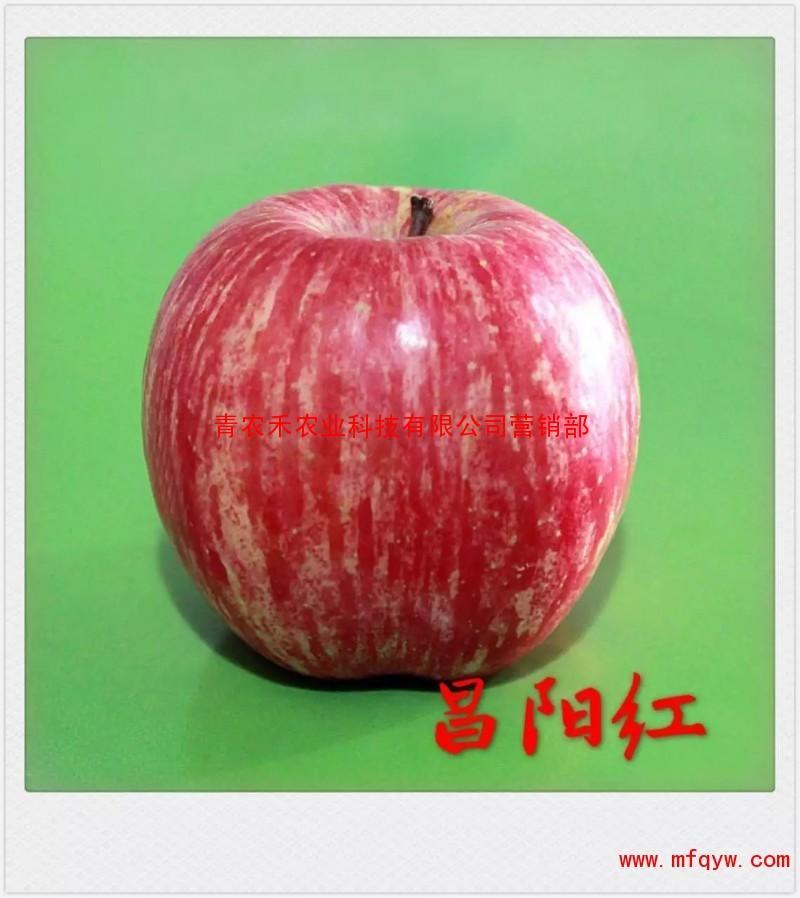apple: (138, 183, 636, 690)
